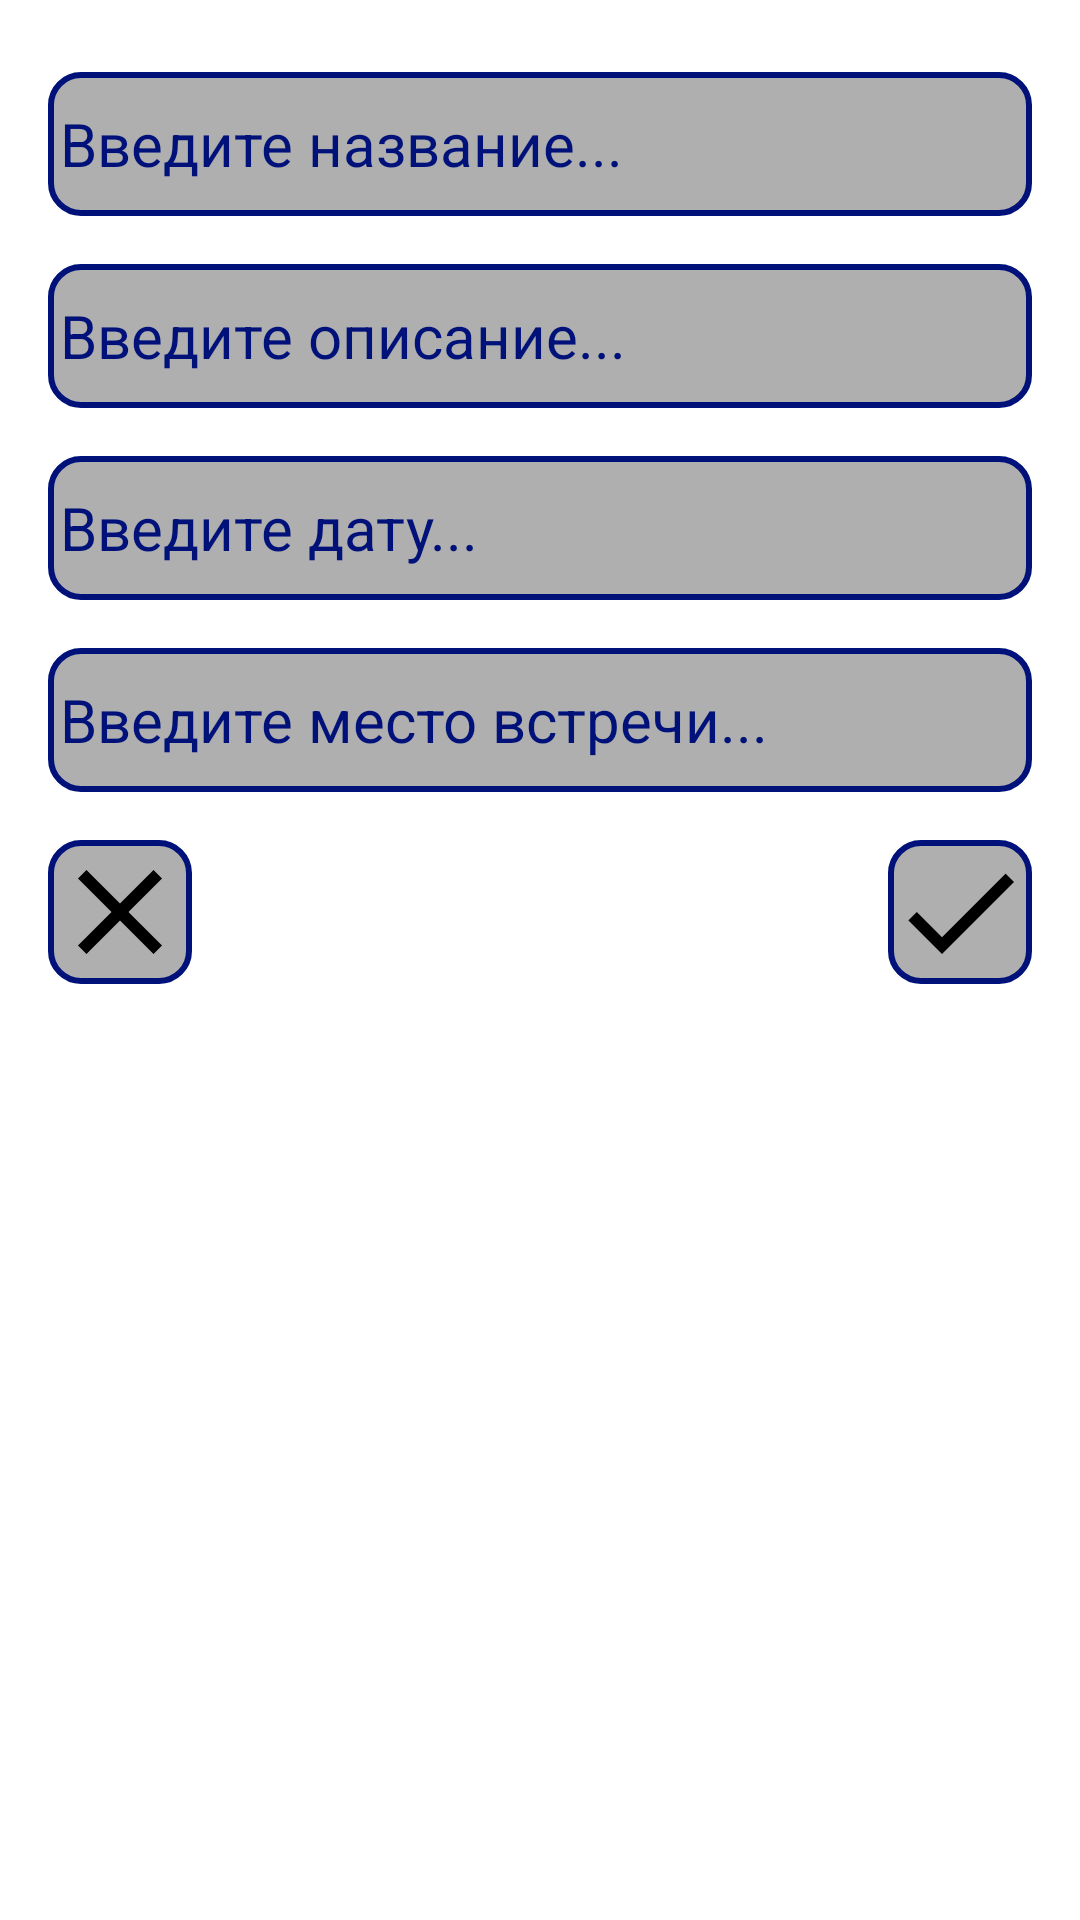

Icons on this 1080x1920 Android screen, each with the point to tap as (x,y):
close: (120,912)
done: (960,912)
